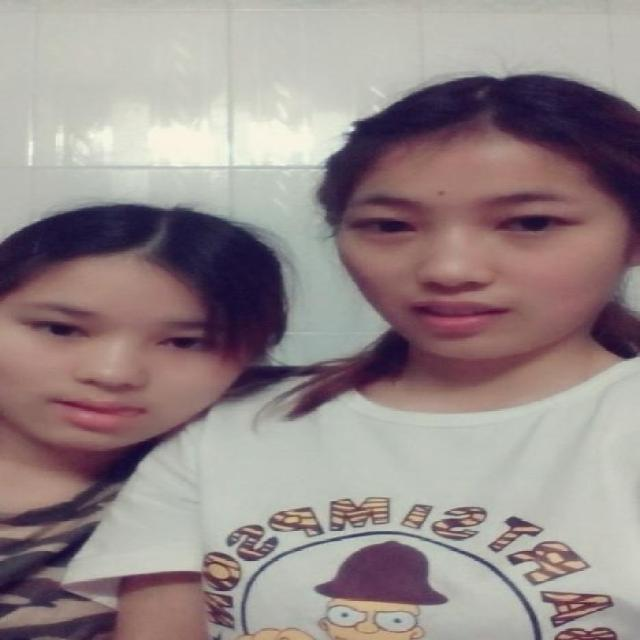short sleeve top: (63, 359, 636, 636)
